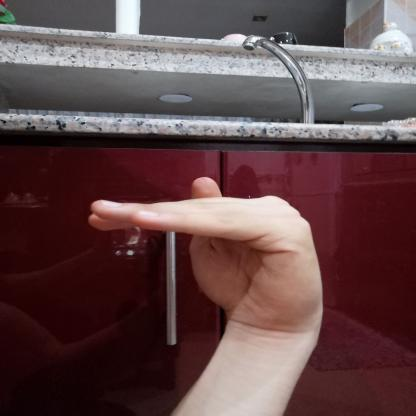KHAA: (70, 161, 344, 333)
